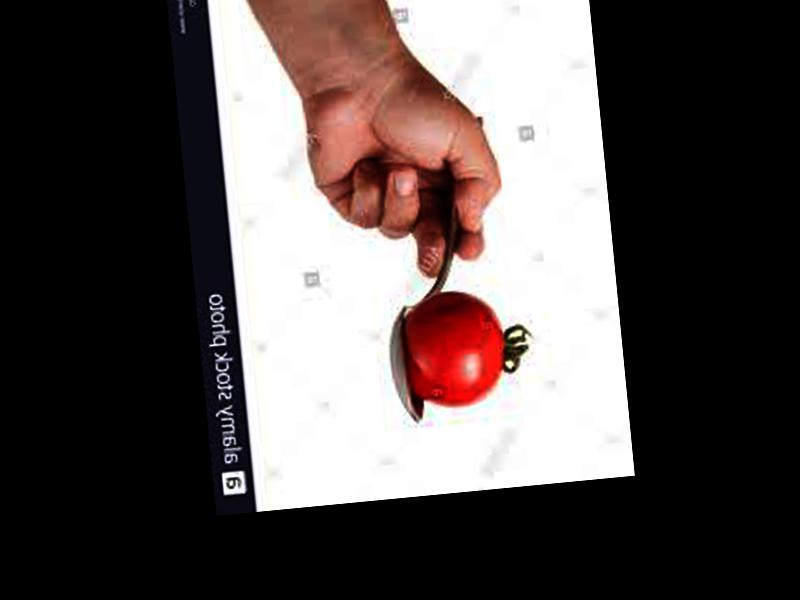Tomato: (401, 286, 510, 408)
